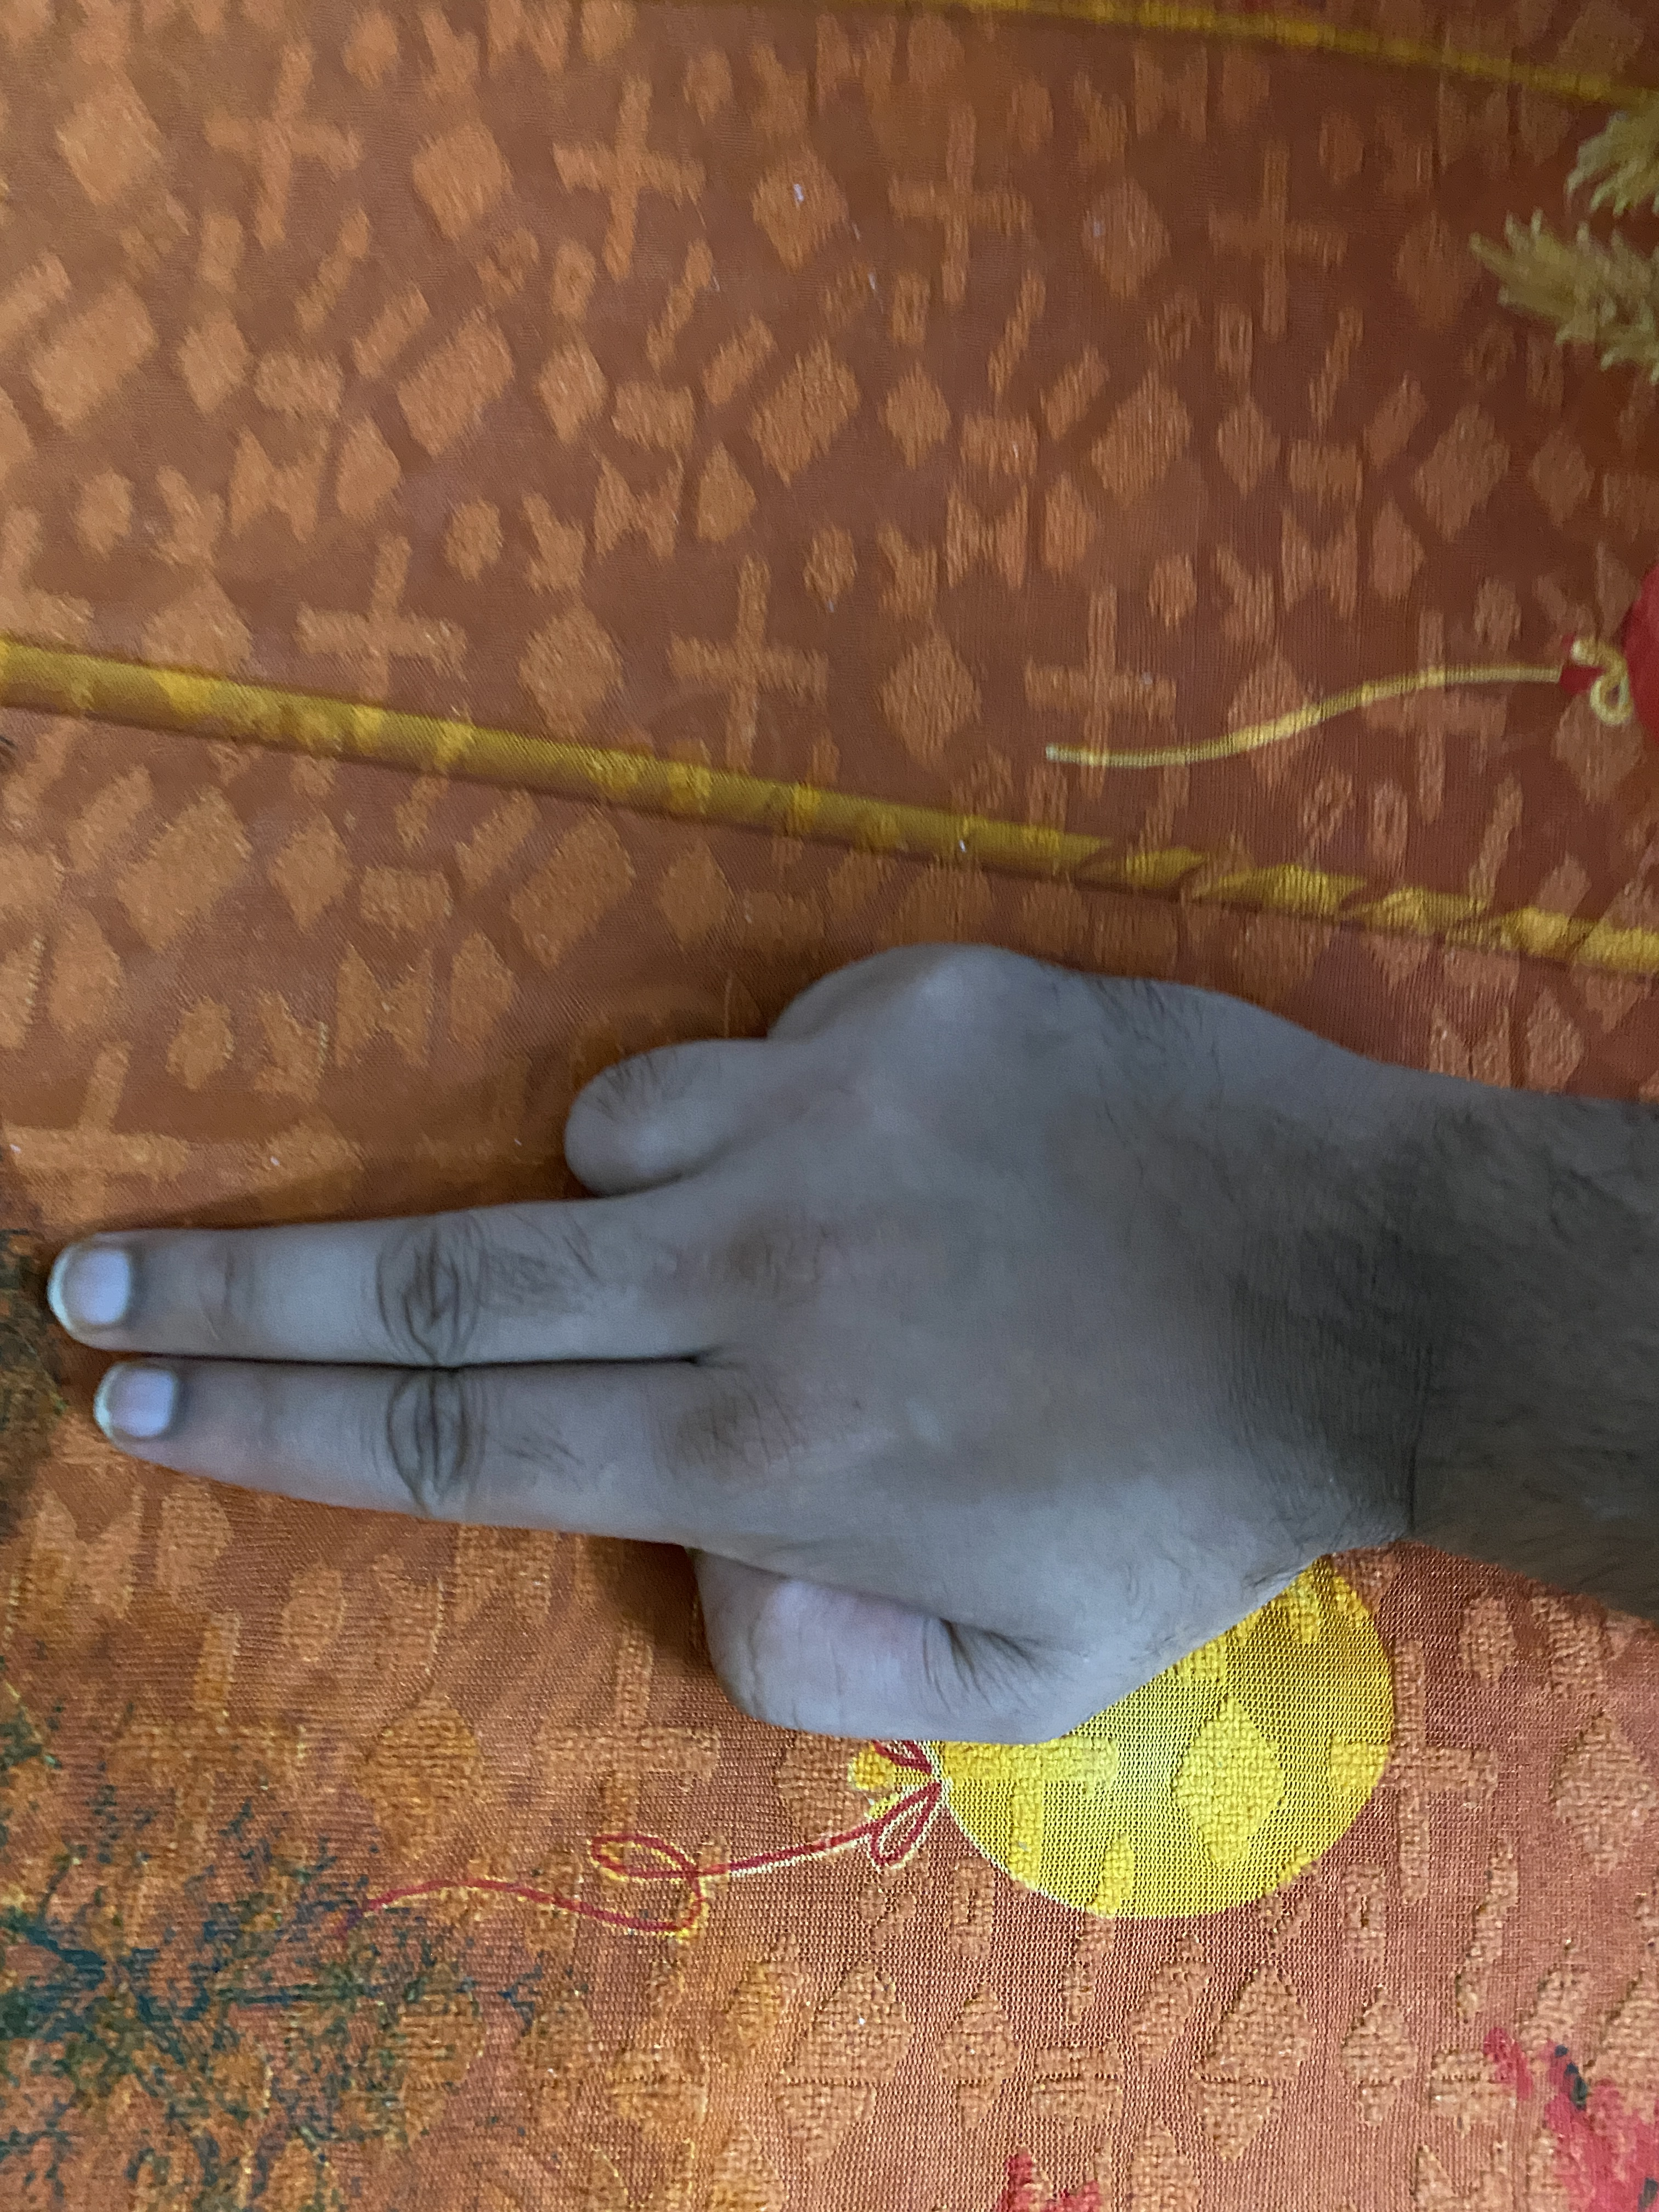right: (31, 730, 1659, 2000)
